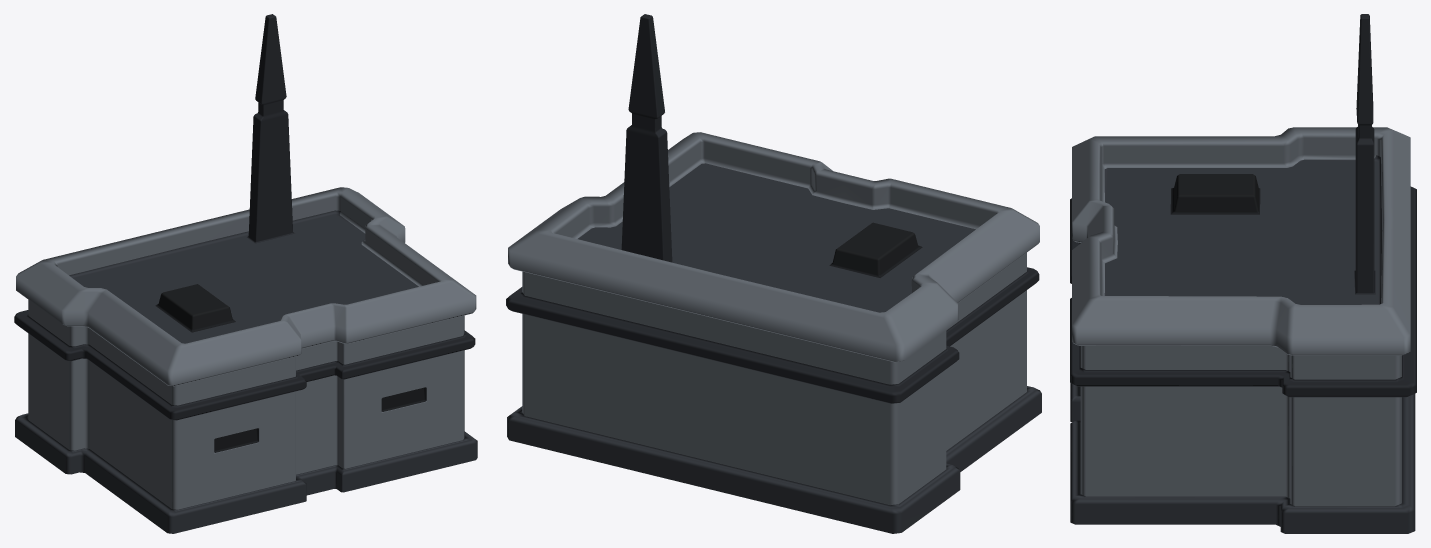
The model's file is build_2.fbx.
3 renders of one model, left to right at view 1: azimuth 30°, elevation 25°; view 2: azimuth 150°, elevation 25°; view 3: azimuth 270°, elevation 25°, orthographic. The views are drawn at different scales.
Visible parts, largest first — view 1: Cube; view 2: Cube; view 3: Cube.
Boxes of the visible parts, <box> form: Cube: <box>14,14,477,533</box>; Cube: <box>506,14,1041,533</box>; Cube: <box>1070,14,1416,533</box>.
Bounding box in the file's own units: 484 × 507 × 348.
